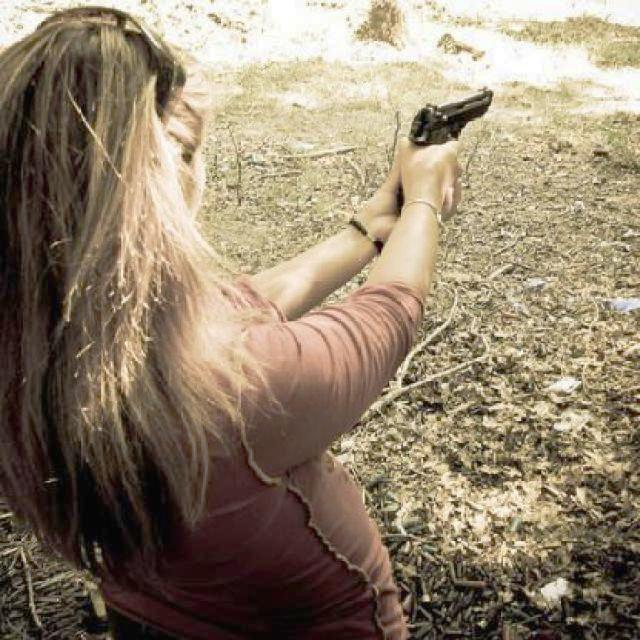Gun: (400, 52, 508, 166)
